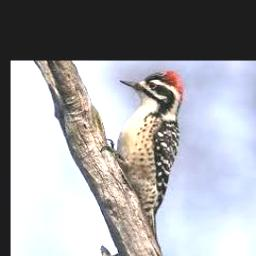Woodpecker: (101, 71, 186, 238)
